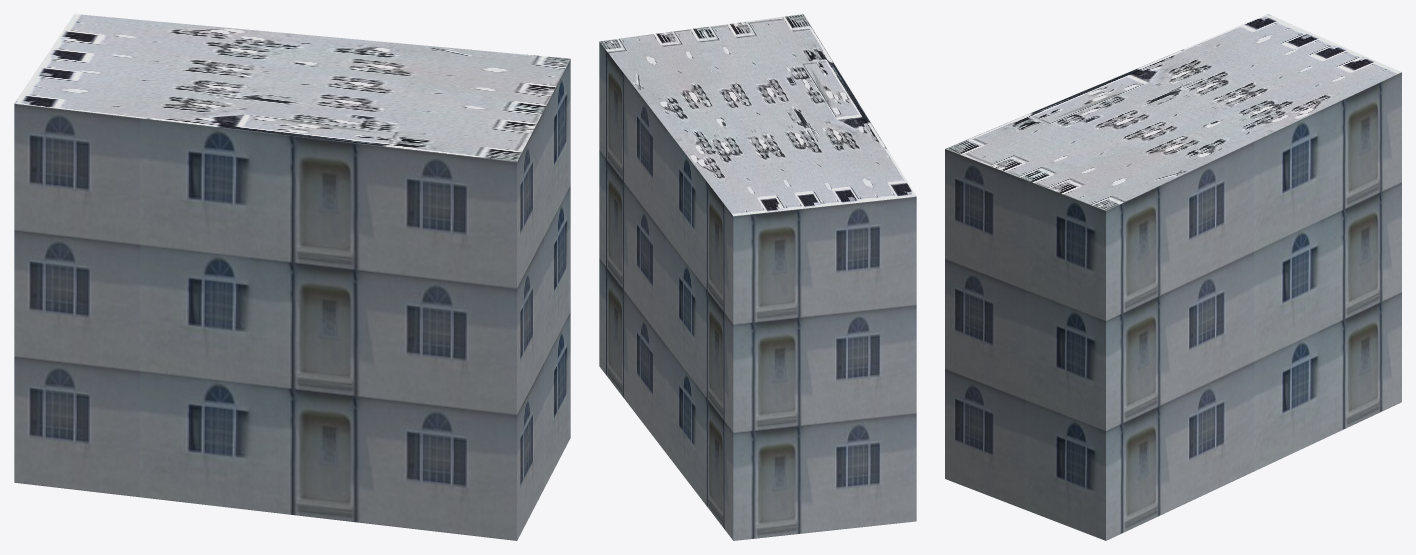
Rendered from ResTex__1570.fbx.
3 views of the same model, side by side, from view 1: azimuth 30°, elevation 25°; view 2: azimuth 150°, elevation 25°; view 3: azimuth 270°, elevation 25° (orthographic). The views are drawn at different scales.
Visible parts, largest first — view 1: CityEngineMaterial_17_m, CityEngineMaterial_m; view 2: CityEngineMaterial_17_m, CityEngineMaterial_m; view 3: CityEngineMaterial_17_m, CityEngineMaterial_m.
Boxes of the visible parts, left/top/right/bottom form: CityEngineMaterial_17_m: left=14, top=59, right=570, bottom=540; CityEngineMaterial_m: left=14, top=14, right=570, bottom=161; CityEngineMaterial_17_m: left=599, top=42, right=916, bottom=540; CityEngineMaterial_m: left=599, top=14, right=916, bottom=216; CityEngineMaterial_17_m: left=945, top=72, right=1401, bottom=540; CityEngineMaterial_m: left=945, top=14, right=1401, bottom=210.
Size of the model in its own units: 11.52 by 9 by 11.29.
Materials: 2 (2 with a texture image).
